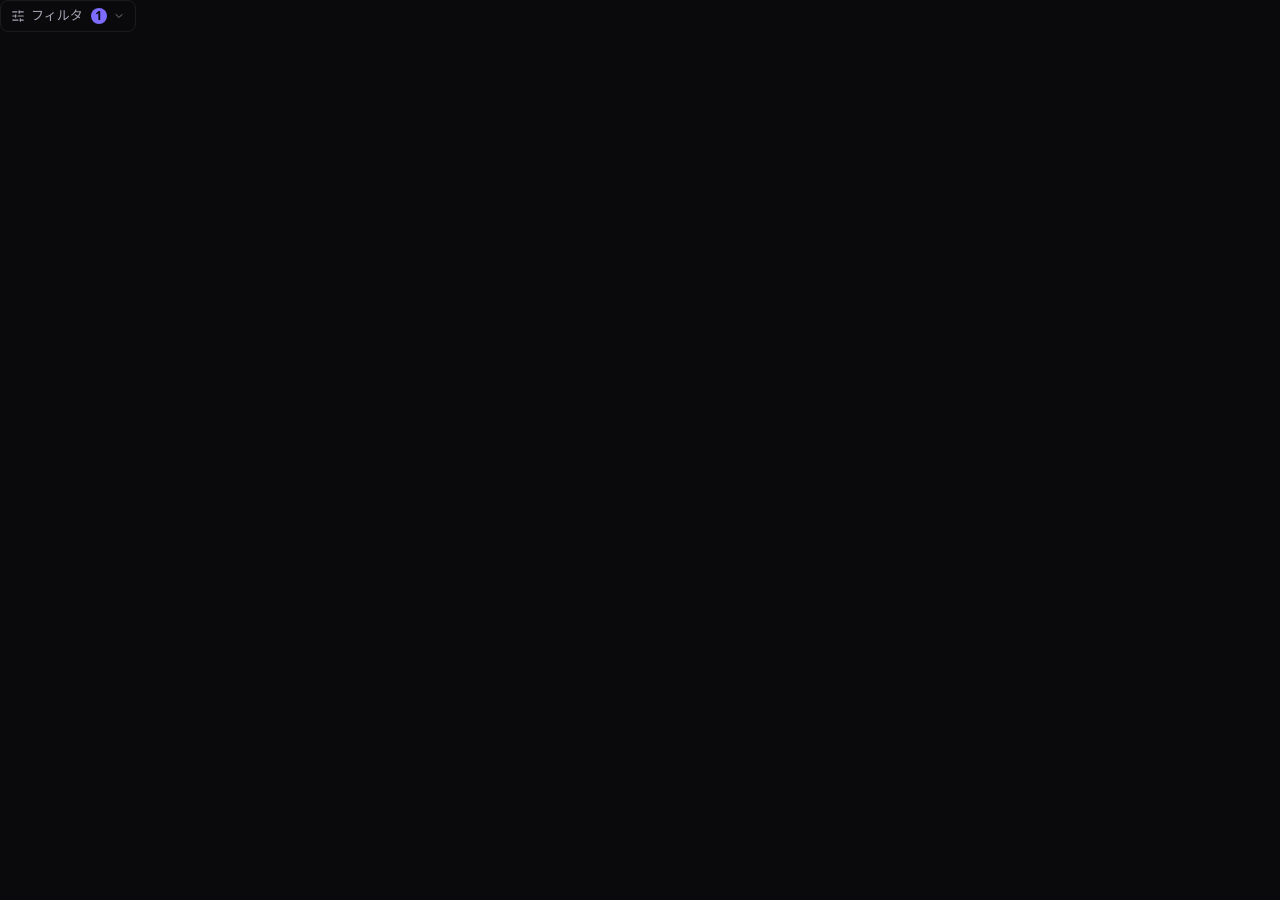
Test: #96 ツールバー › フィルタはクリックで開き、Escape で閉じてトリガーへ戻る
Click the button with aria-label "フィルタ（1 件適用中）" at (68,16), box [0,0,136,32]
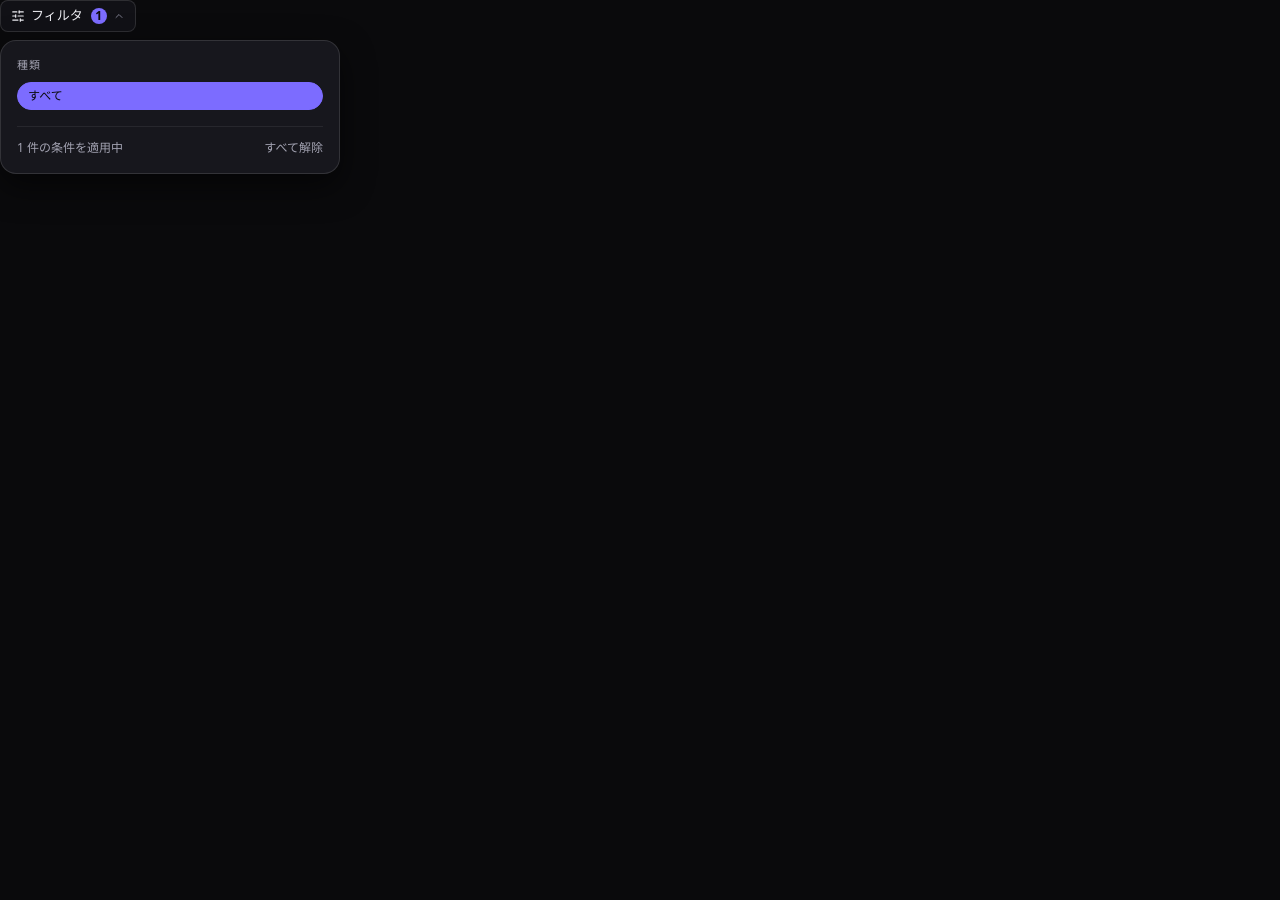
Now the button with aria-label "フィルタ（1 件適用中）" is expanded, box [0,0,136,32]
Now the dialog named "絞り込み" is shown, box [0,40,340,174]
Now the button "すべて解除" is shown, box [264,138,323,156]
Press Escape
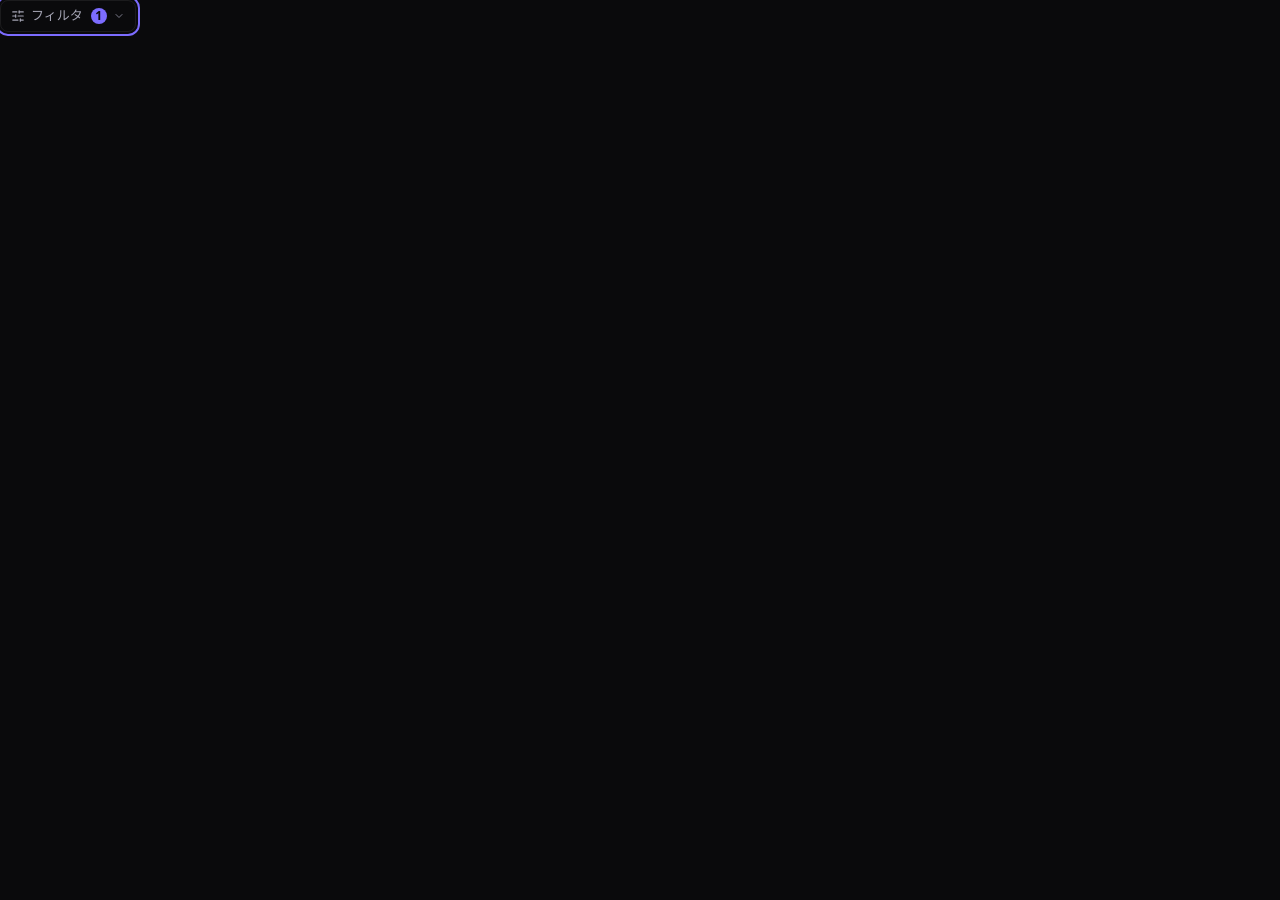
Now the dialog "絞り込み" is gone
Now the button with aria-label "フィルタ（1 件適用中）" is collapsed, box [0,0,136,32]
